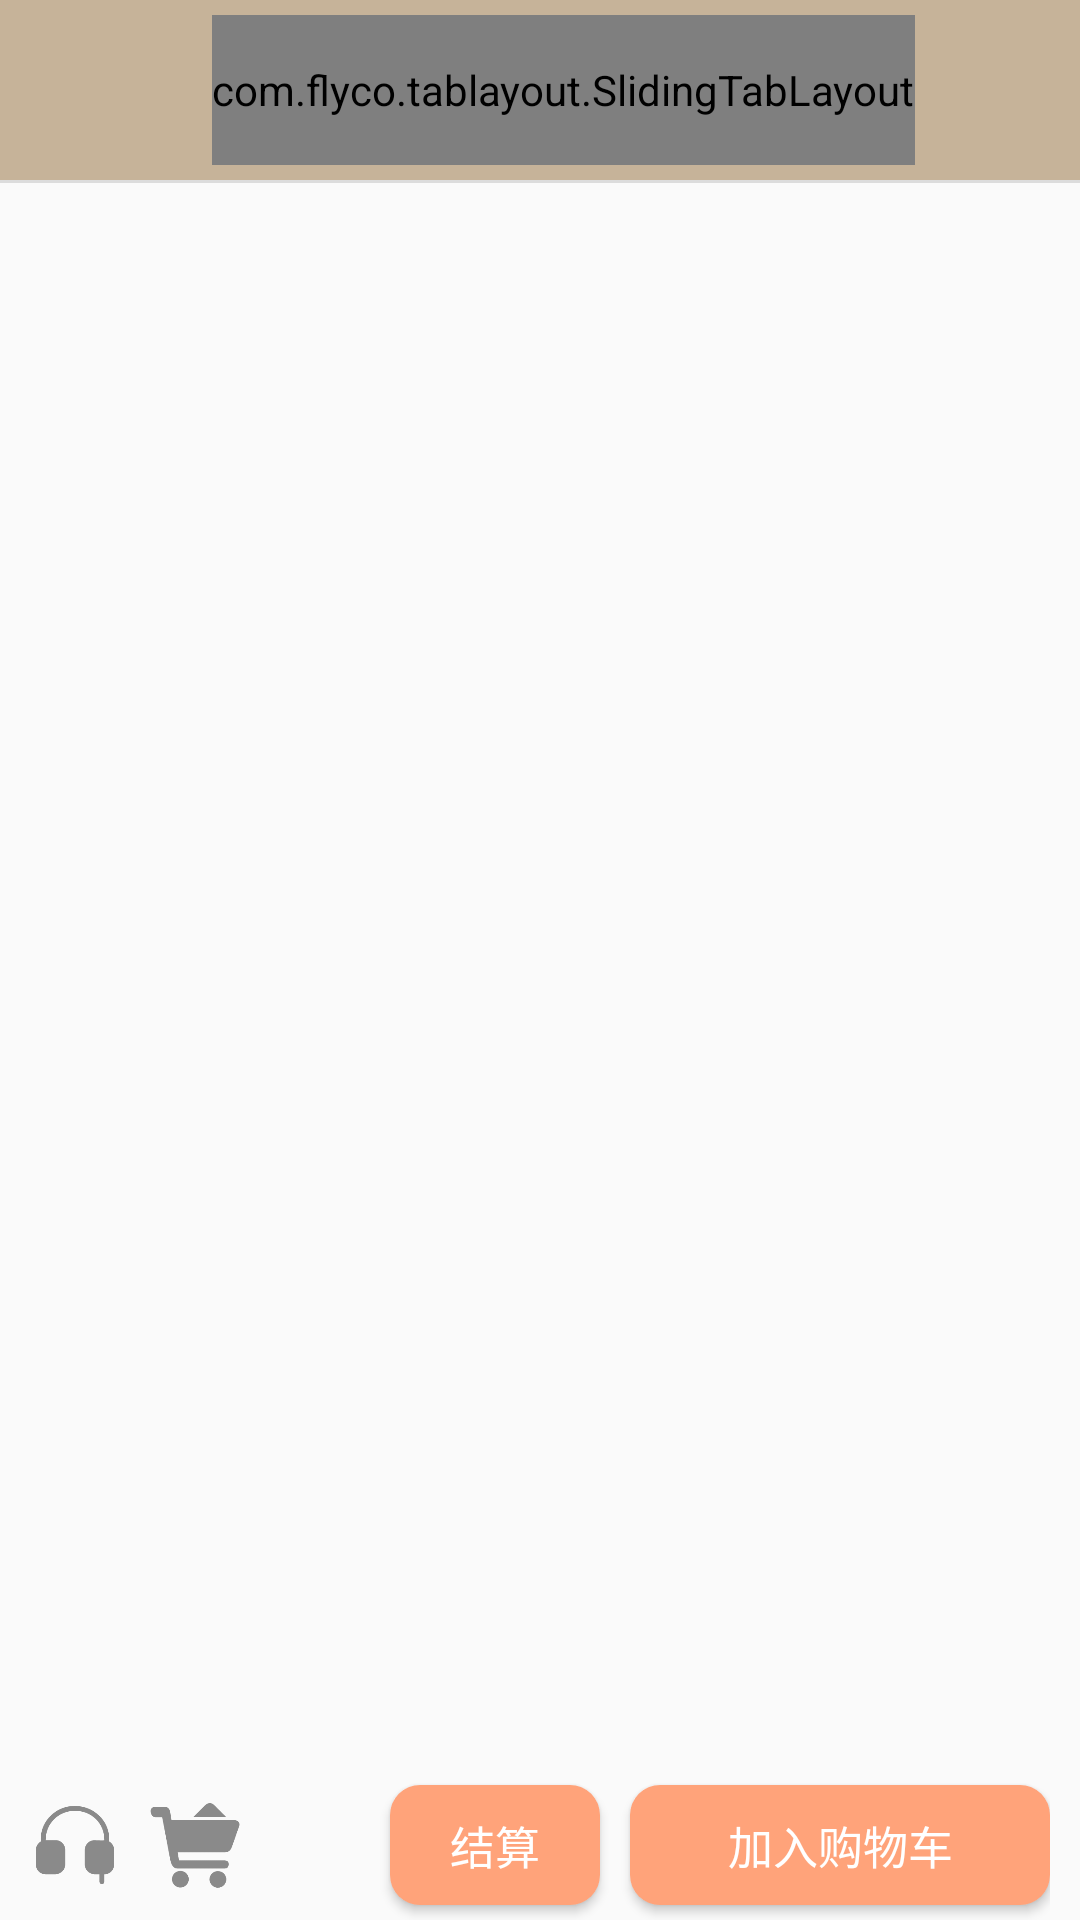

Where icons sit on this 1080*1920 app screen, as (x1, y1, x2, y2):
headset: (36, 1806, 114, 1884)
shopping car: (150, 1803, 240, 1888)
